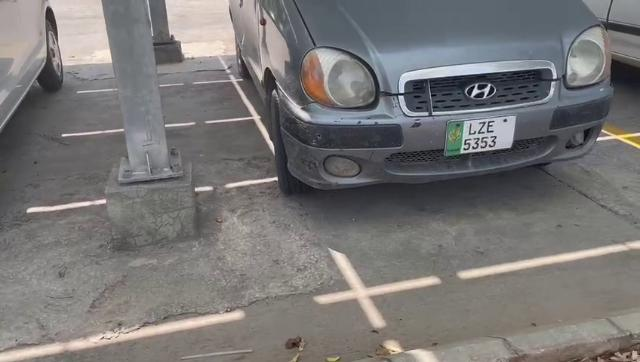plate: (443, 113, 518, 156)
